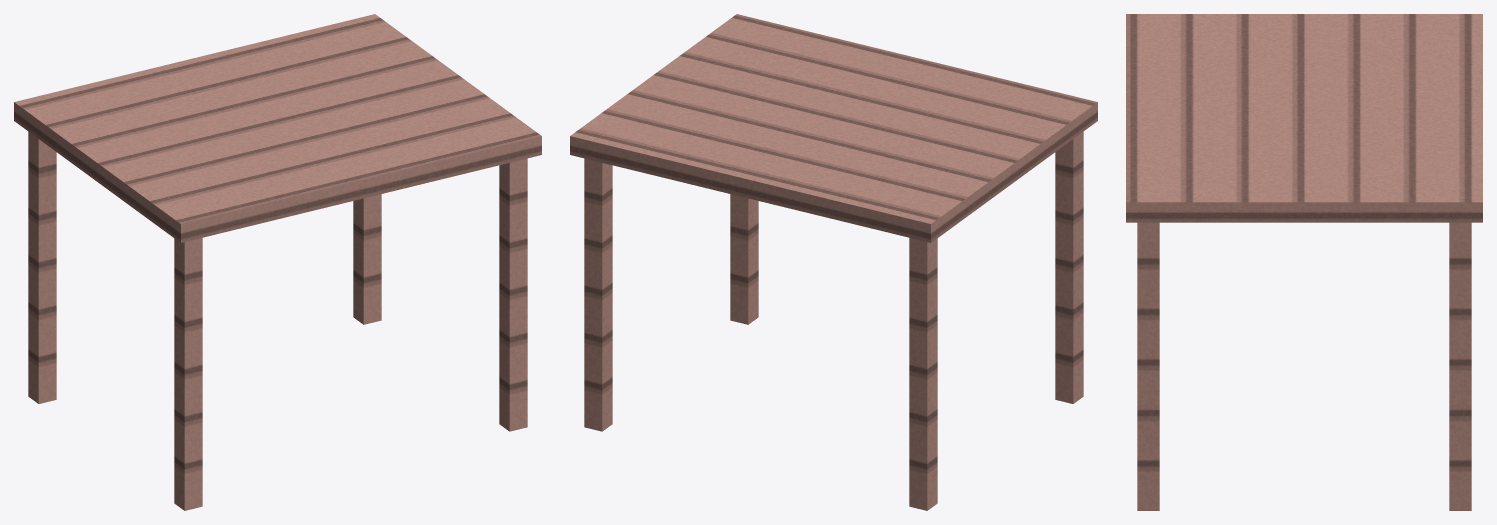
The model's file is kitchen_table.glb.
3 views of the same model, side by side, from view 1: azimuth 30°, elevation 25°; view 2: azimuth 150°, elevation 25°; view 3: azimuth 270°, elevation 25° (orthographic). The views are drawn at different scales.
Visible parts, largest first — view 1: kitchen_table-col; view 2: kitchen_table-col; view 3: kitchen_table-col.
Boxes of the visible parts, x1,y1,x2,y2 form: kitchen_table-col: [14, 14, 541, 510]; kitchen_table-col: [570, 14, 1097, 510]; kitchen_table-col: [1126, 14, 1482, 510].
Bounding box in the file's own units: 1 × 0.775 × 0.8.
1 material, 1 textured.
